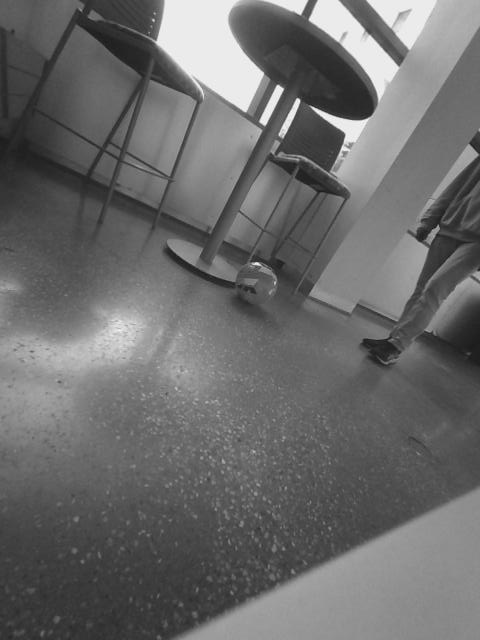ball: (232, 260, 281, 310)
